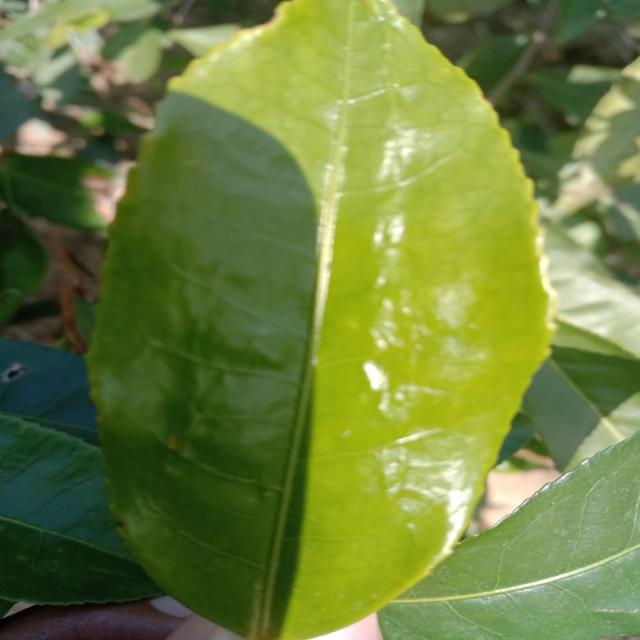Category B(2-4 days): (82, 0, 562, 639)
